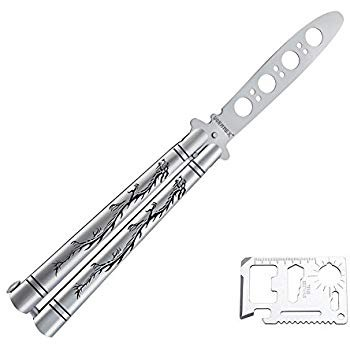knife: (5, 7, 350, 339)
